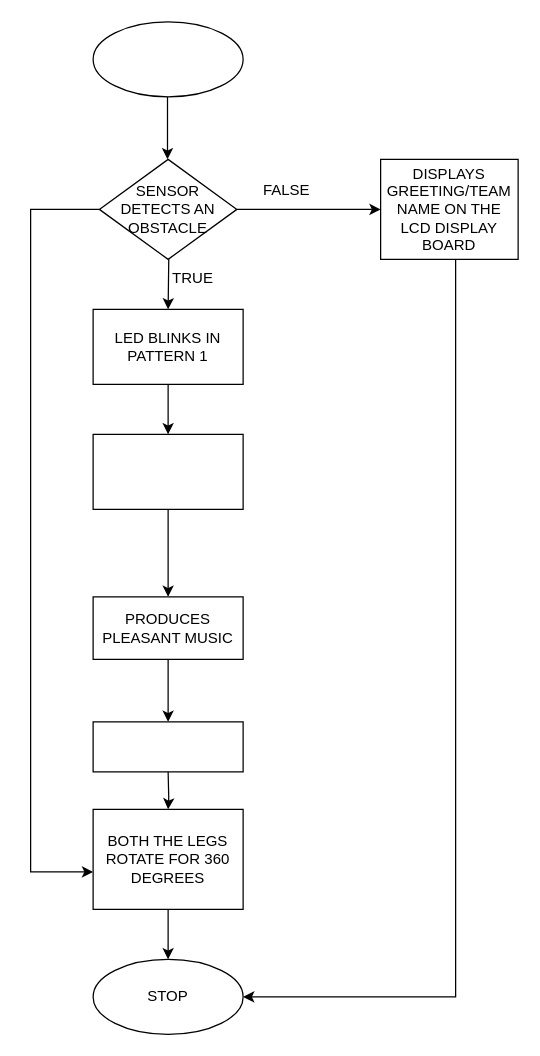
This 540x1056 diagram has some shape labels left out. Here are the shapes that lost their labels. From the top down, the box of each, then its label:
(92, 21, 243, 97): START
(92, 433, 243, 509): LED BLINKS IN PATTERN 2
(92, 721, 243, 772): DC MOTORS ON
